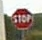stop: (11, 8, 33, 30)
